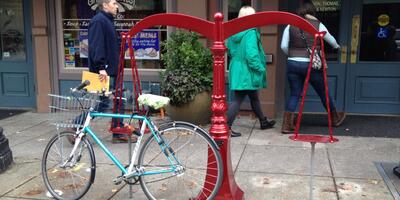bike: (40, 63, 232, 197)
